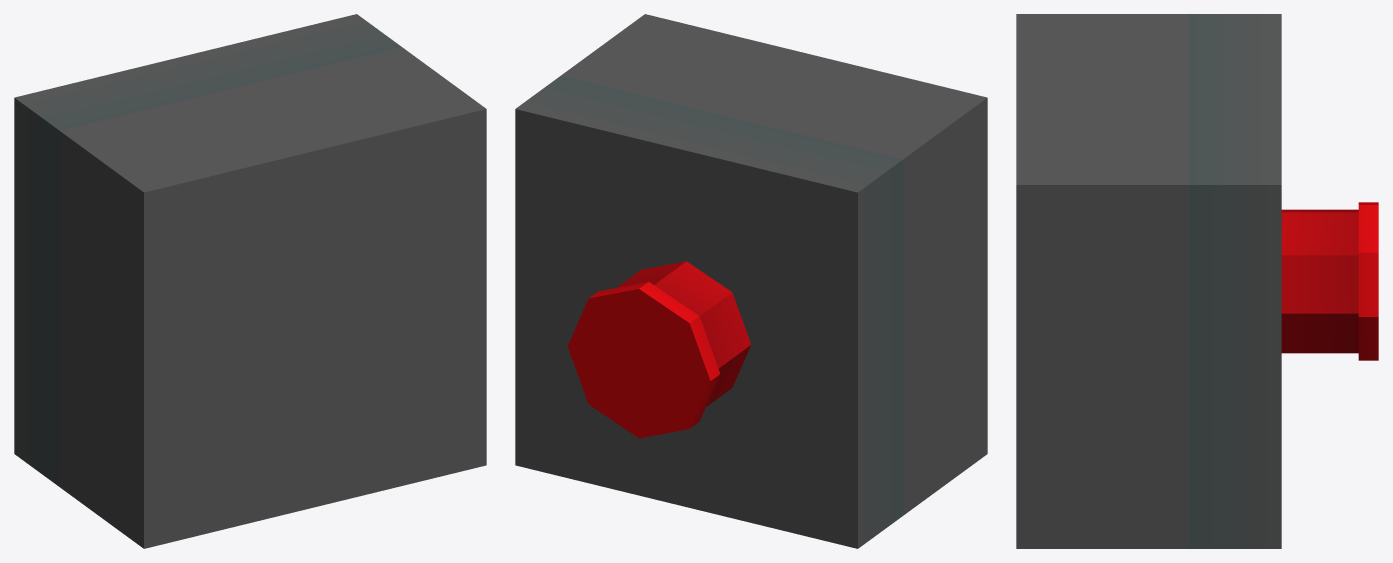
The picture shows the model from 3 angles, left to right: view 1: azimuth 30°, elevation 25°; view 2: azimuth 150°, elevation 25°; view 3: azimuth 270°, elevation 25°; orthographic projection. The views are drawn at different scales.
Parts seen in each view (by area): view 1: dark_block; view 2: dark_block, base; view 3: dark_block, base.
Boxes of the visible parts, x1,y1,x2,y2 form: dark_block: [14, 14, 486, 548]; dark_block: [515, 14, 987, 548]; base: [567, 261, 751, 438]; dark_block: [1016, 14, 1281, 548]; base: [1281, 202, 1378, 360].
Bounding box in the file's own units: 0.1006 × 0.1 × 0.0902.
